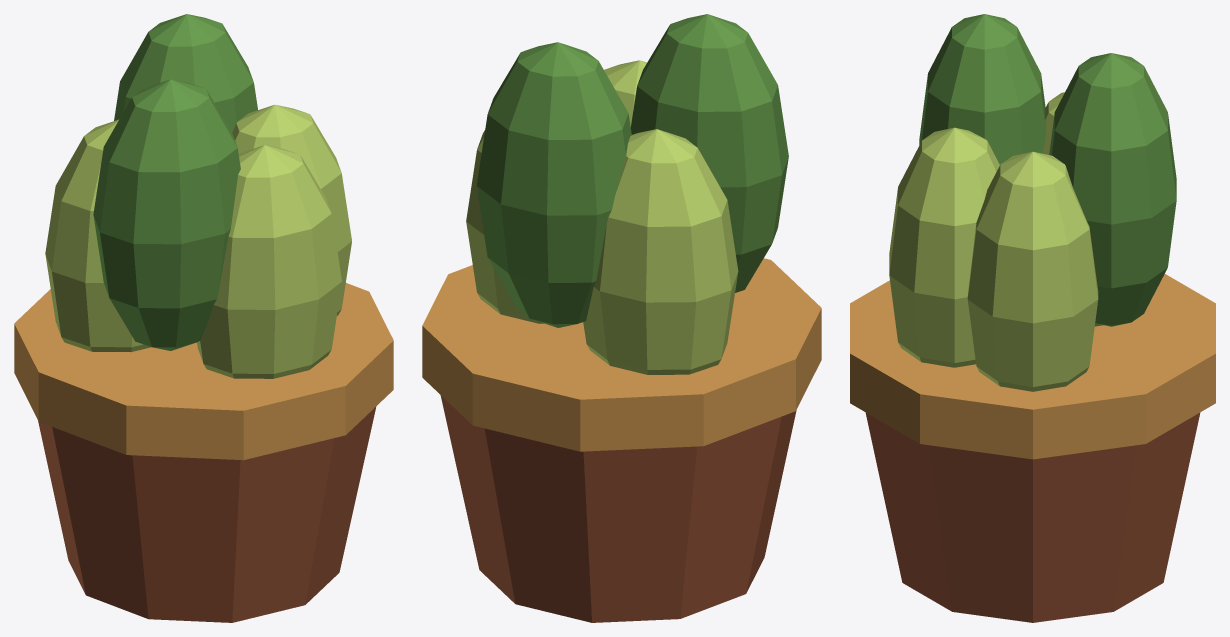
The model's file is Plant.fbx.
The picture shows the model from 3 angles, left to right: view 1: azimuth 30°, elevation 25°; view 2: azimuth 150°, elevation 25°; view 3: azimuth 270°, elevation 25°; orthographic projection. The views are drawn at different scales.
Parts seen in each view (by area): view 1: Plant.005; view 2: Plant.005; view 3: Plant.005.
Part boxes in pixels (left/top/right/bottom): Plant.005: left=14, top=14, right=393, bottom=622; Plant.005: left=422, top=14, right=821, bottom=622; Plant.005: left=850, top=14, right=1215, bottom=622.
Size of the model in its own units: 56 by 84 by 53.26.
